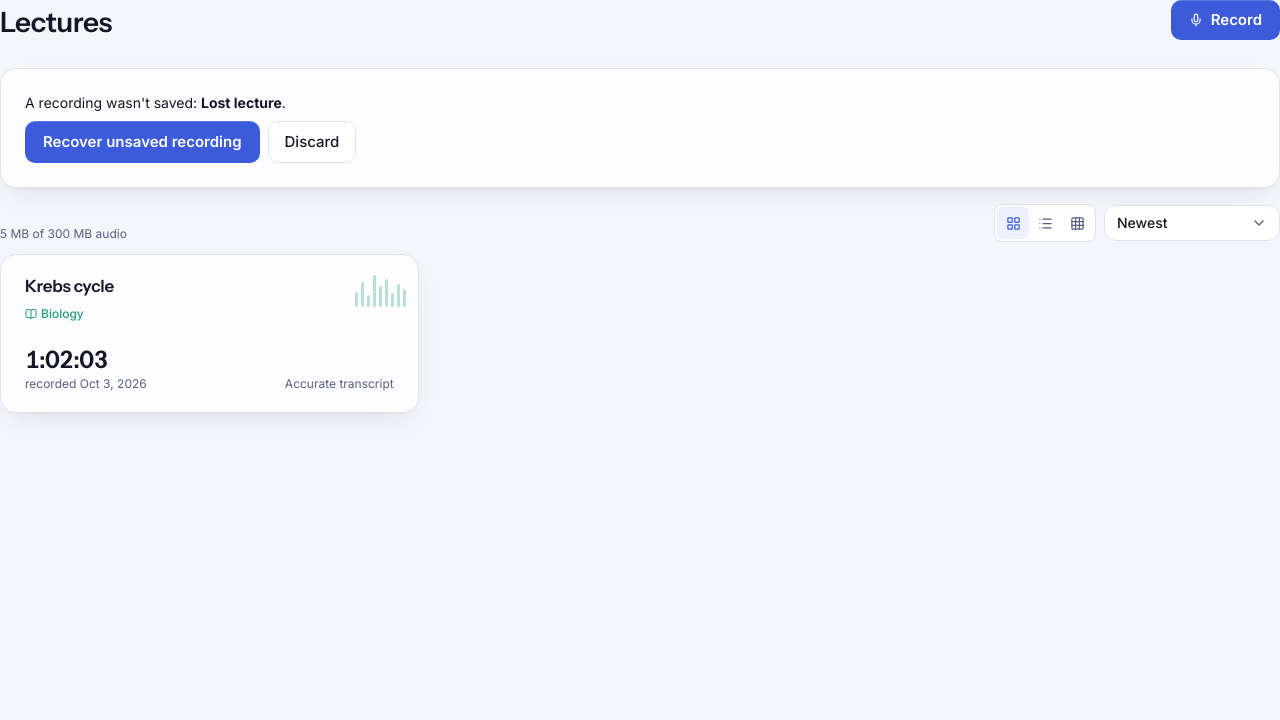
Test case: Lectures page: unsaved recordings › an unsaved recording can be discarded after confirming
Step 1. Click the button "Discard" → coordinates (312, 142), box x1=268 y1=121 x2=356 y2=163
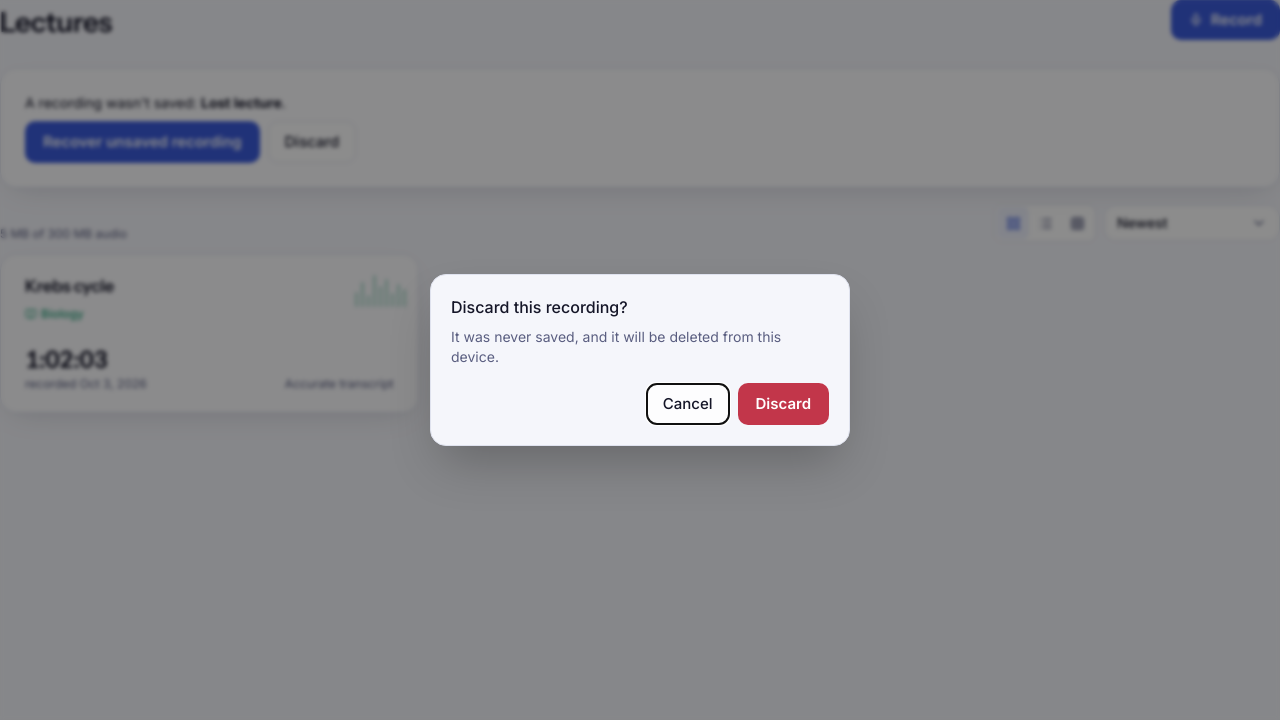
Step 2. Click the button with class "btn-danger" → coordinates (783, 404), box x1=738 y1=383 x2=829 y2=425
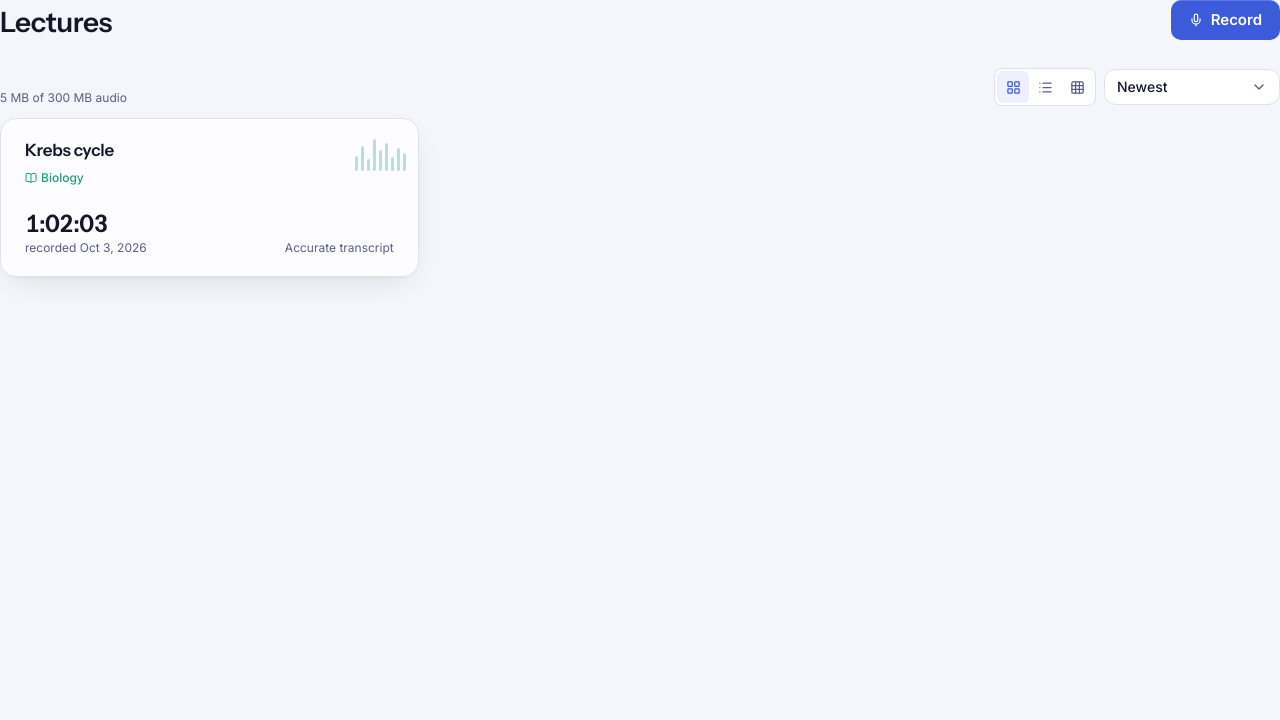
Expected: the button "Recover unsaved recording" is gone
